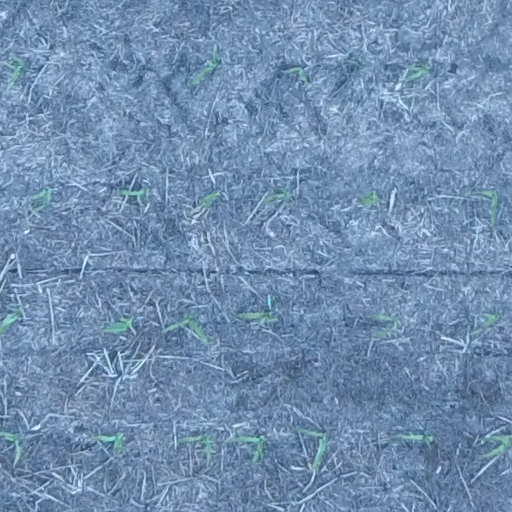planta: (162, 312, 211, 345), (295, 427, 329, 473), (187, 48, 220, 87), (229, 434, 267, 466), (173, 434, 213, 464), (475, 190, 500, 229), (369, 312, 399, 339), (89, 431, 124, 454), (3, 54, 28, 85), (470, 311, 500, 335), (234, 311, 278, 327), (100, 315, 135, 335), (30, 186, 54, 215), (194, 190, 222, 213), (392, 429, 434, 444), (260, 187, 290, 206), (115, 187, 150, 203), (405, 64, 430, 84), (285, 67, 309, 82), (358, 190, 379, 206)
